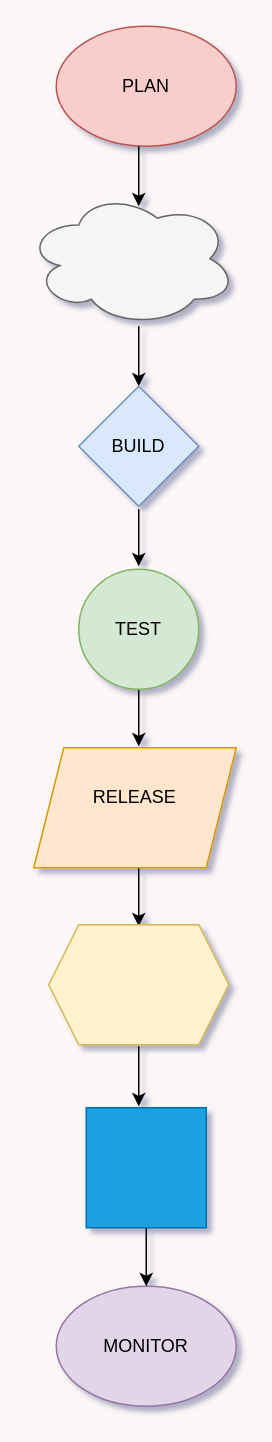
Image size: 272x1442. Some labels were removed from this diagram. Here are the shapes that lost their labels. From the top down, the centre of each, then its label:
At (130,258): "DEVELOP".
At (138,984): "DEPLOY".
At (145,1167): "OPERRATE".
